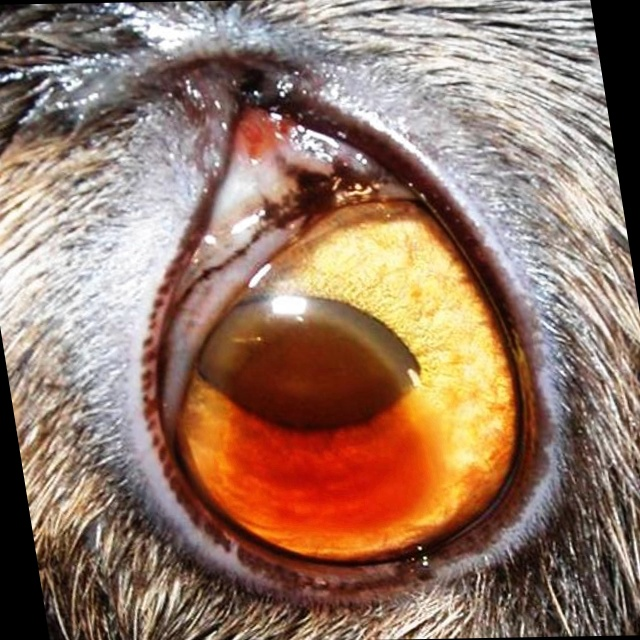eye_infection: (99, 86, 569, 573)
